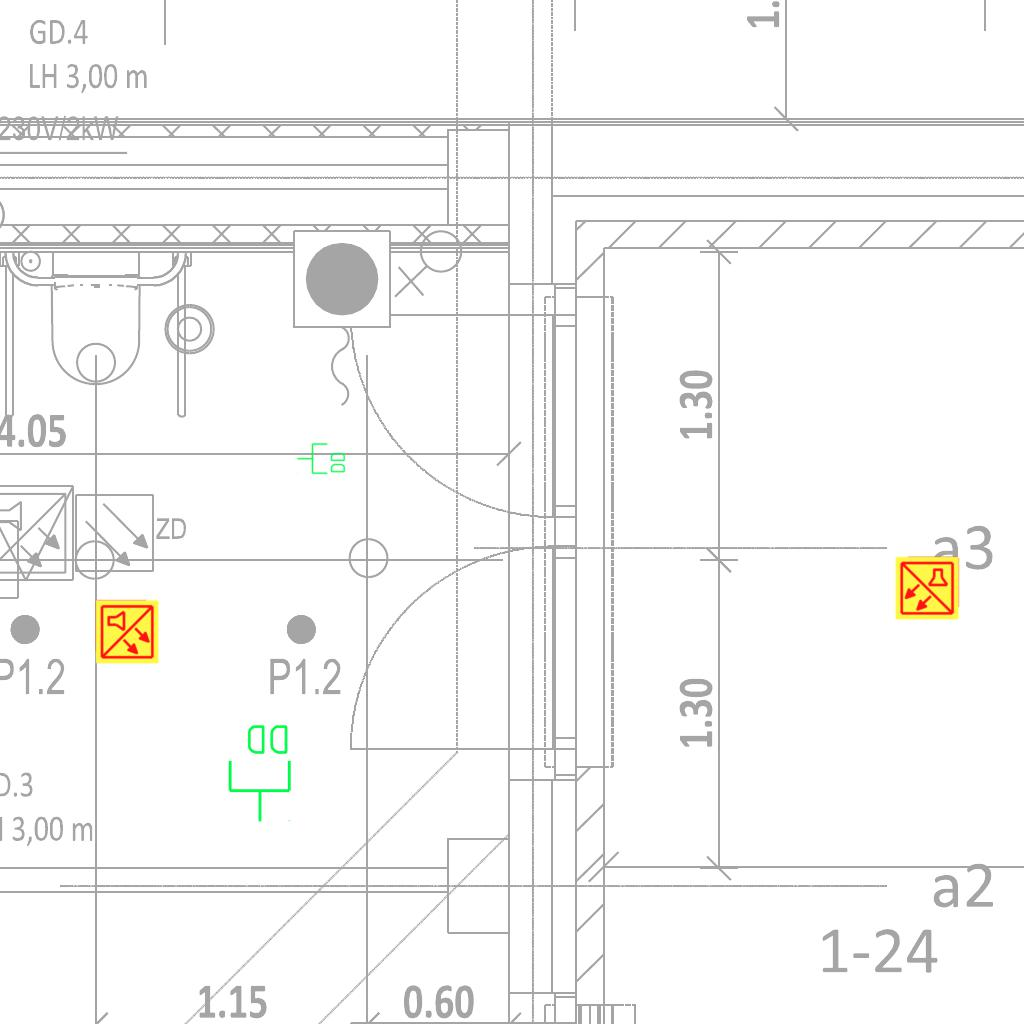Datenanschluss_zweifach: (226, 721, 295, 824), (296, 442, 347, 476)
OKW_Multisensormelder_(Kombination_optischer_Rauch-Kahlenmonoxid_Waerme-Melder): (894, 555, 960, 621), (94, 599, 160, 665)
